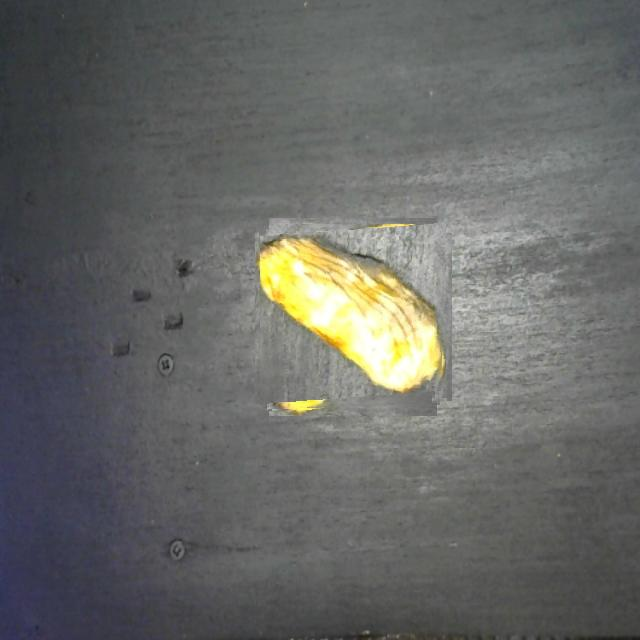biodegradable: (260, 224, 446, 410)
